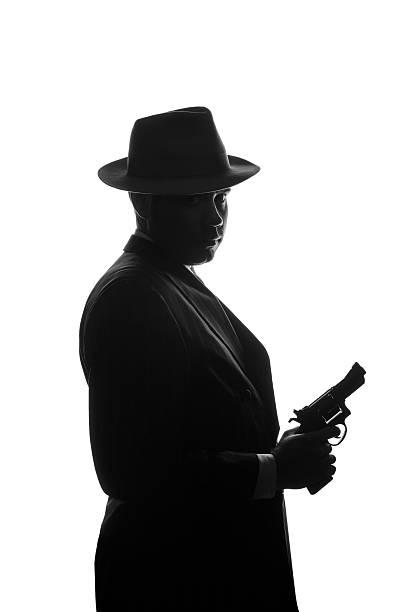weapon: (292, 358, 369, 496)
